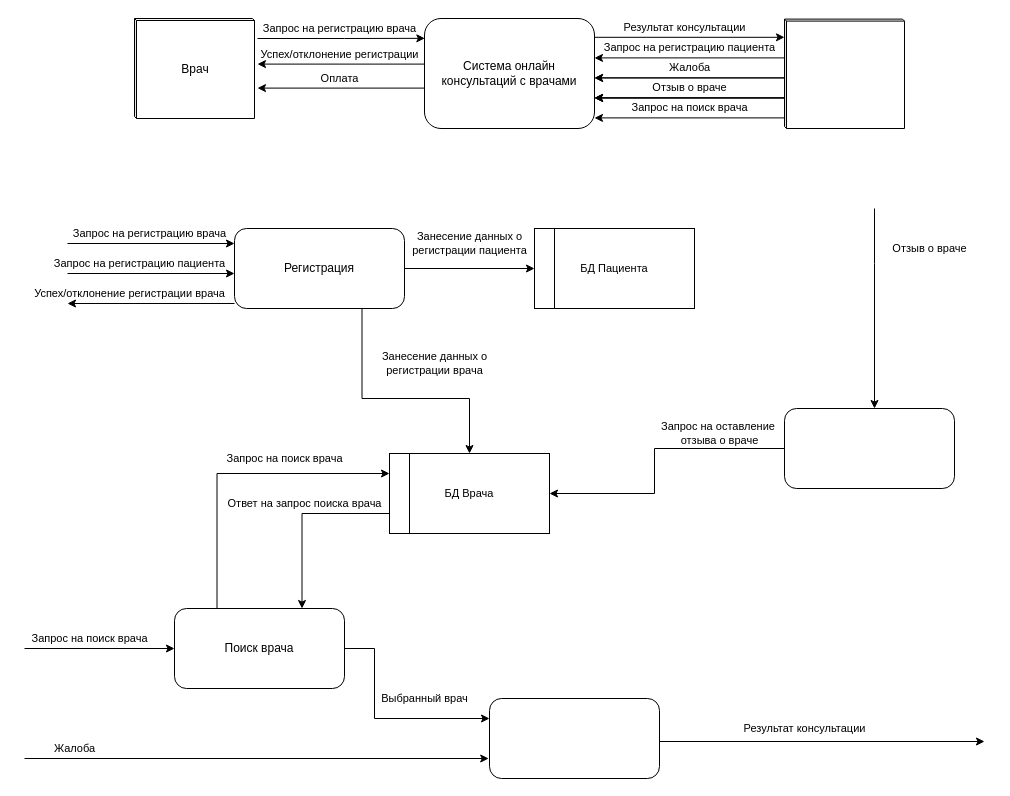
This 1010x796 diagram has some shape labels left out. The shapes that lost their labels are listed below. From the top down, each one's centre as x and y in pixels, then its label:
[844,73]: Пациент
[869,448]: Составление отзыв
[574,738]: Консультация
